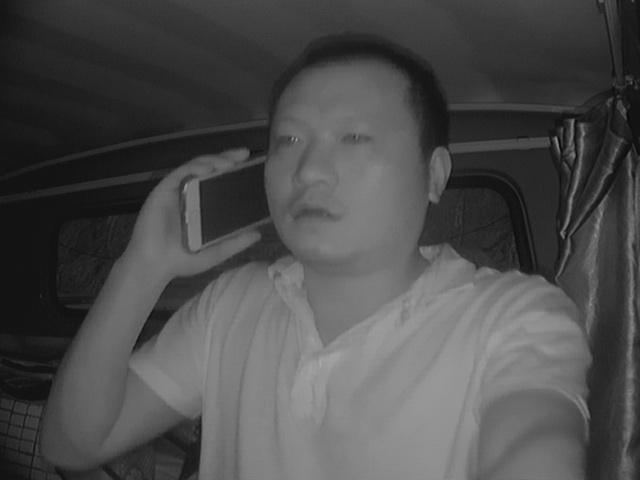hand: (124, 147, 260, 274)
